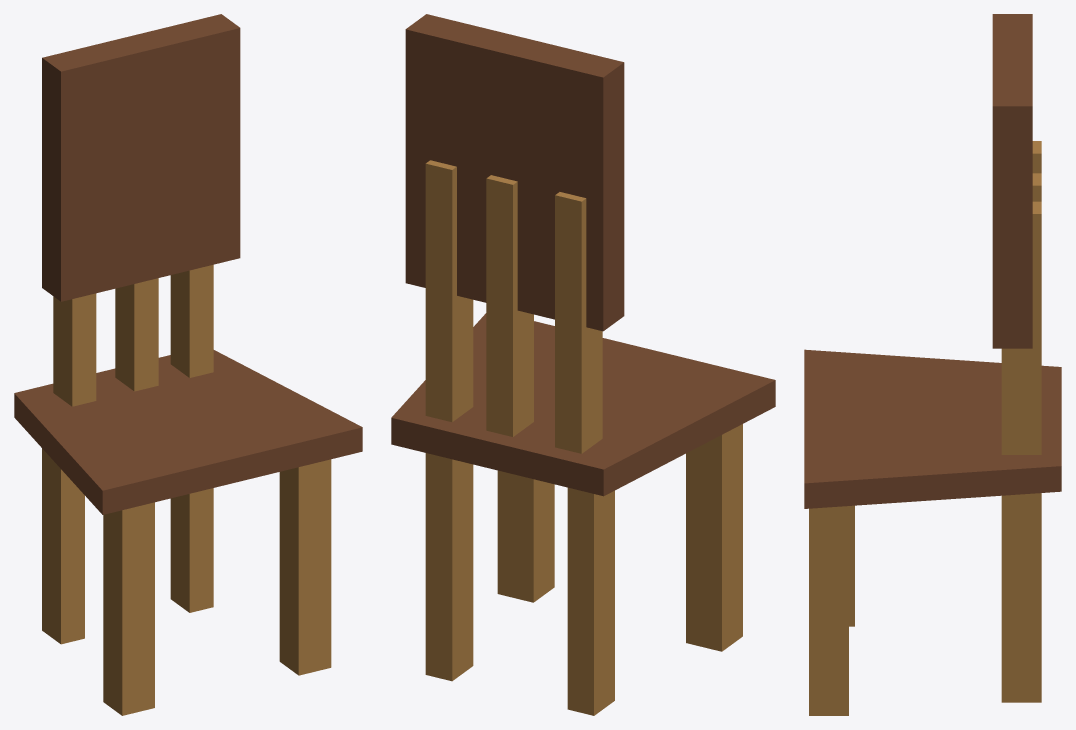
The model's file is Chair.fbx.
3 renders of one model, left to right at view 1: azimuth 30°, elevation 25°; view 2: azimuth 150°, elevation 25°; view 3: azimuth 270°, elevation 25°, orthographic. The views are drawn at different scales.
Parts seen in each view (by area): view 1: pCube683; view 2: pCube683; view 3: pCube683.
Part boxes in pixels (x1,y1,x2,y2): pCube683: [14, 14, 362, 715]; pCube683: [391, 14, 775, 715]; pCube683: [804, 14, 1061, 715].
Bounding box in the file's own units: 58.18 × 123 × 47.33.
